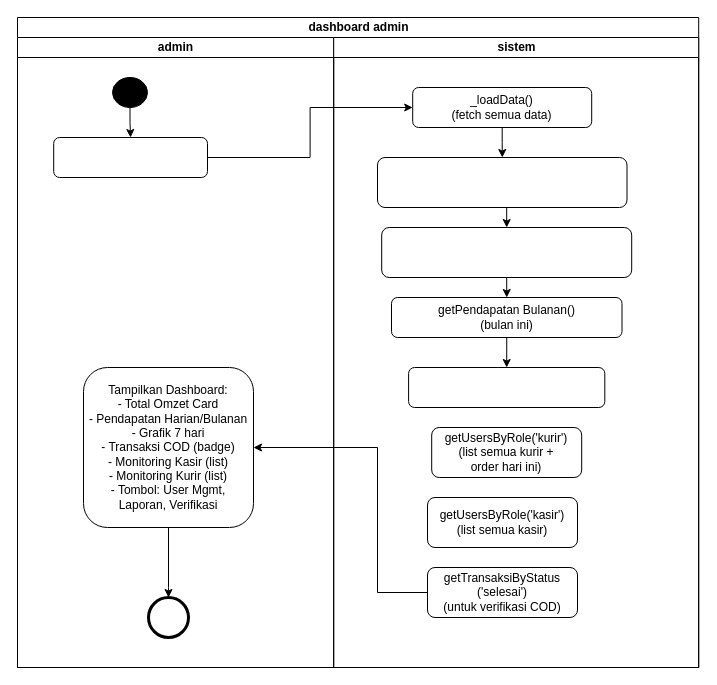
The diagram is 717 pixels wide and 685 high, and some of its shapes have lost their labels. The centre of each missing label's shape, as x and y in pixels:
"_loadGrafikPendapatan() (7 hari terakhir)" goes at (506,387).
"getTotalOmzet() (sum total_harga dari semua transaksi)" goes at (501,182).
"getTotalPendapatan HariIni() (pendapatan hari ini)" goes at (506,252).
"login berhasil" goes at (130,157).
